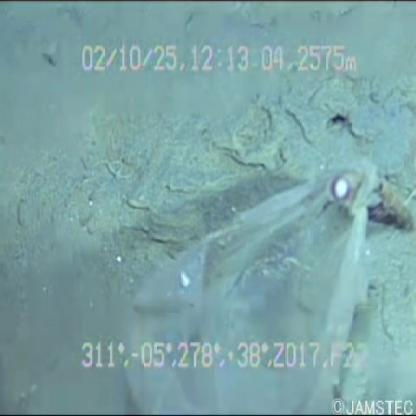Rác: (106, 140, 380, 416)
